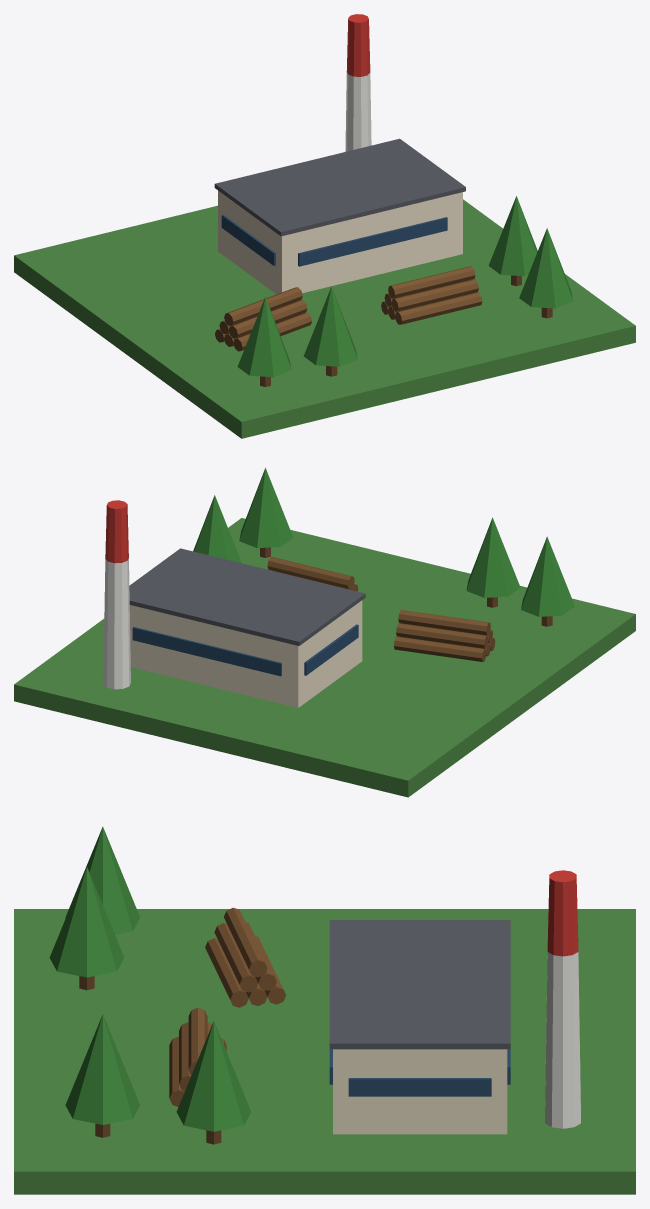
Rendered from forest_rent_2.glb.
The picture shows the model from 3 angles, top to bottom: view 1: azimuth 30°, elevation 25°; view 2: azimuth 150°, elevation 25°; view 3: azimuth 270°, elevation 25°; orthographic projection. The views are drawn at different scales.
Visible parts, largest first — view 1: forest_rent_2; view 2: forest_rent_2; view 3: forest_rent_2.
Boxes of the visible parts, box(x1,y1,x2,y2) form: forest_rent_2: box(14, 14, 635, 438); forest_rent_2: box(14, 467, 635, 797); forest_rent_2: box(14, 826, 635, 1194).
Bounding box in the file's own units: 1.96 × 0.93 × 1.96.
